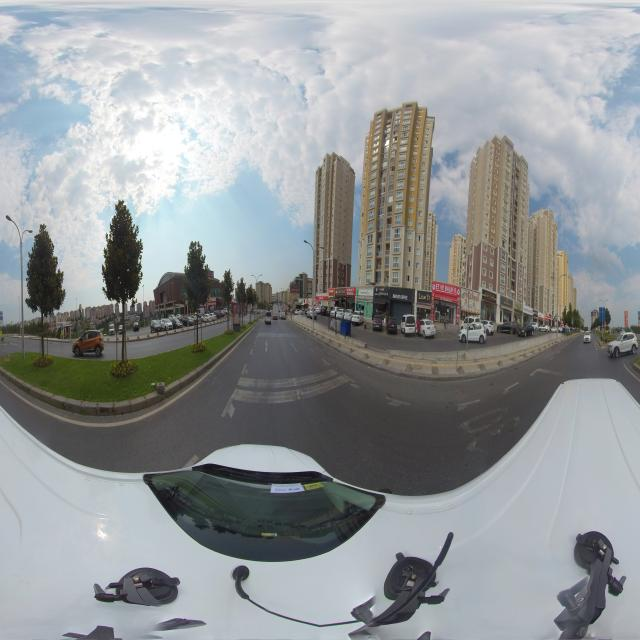SignStore: (435, 283, 457, 297), (469, 292, 481, 310), (482, 289, 497, 303), (500, 295, 513, 308), (392, 292, 410, 301), (375, 287, 389, 298), (418, 292, 431, 303), (523, 305, 533, 315), (514, 301, 523, 312), (463, 289, 468, 306), (360, 290, 372, 296), (335, 288, 345, 295), (346, 288, 355, 295), (538, 312, 544, 319), (533, 310, 538, 317), (329, 289, 334, 294), (318, 297, 325, 300), (545, 315, 548, 320), (549, 314, 552, 318), (552, 316, 555, 319)
